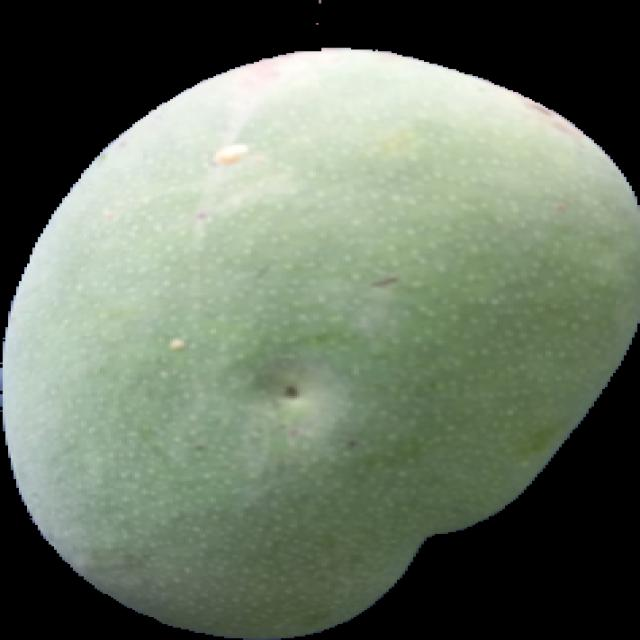Mango-sano: (0, 48, 639, 639)
